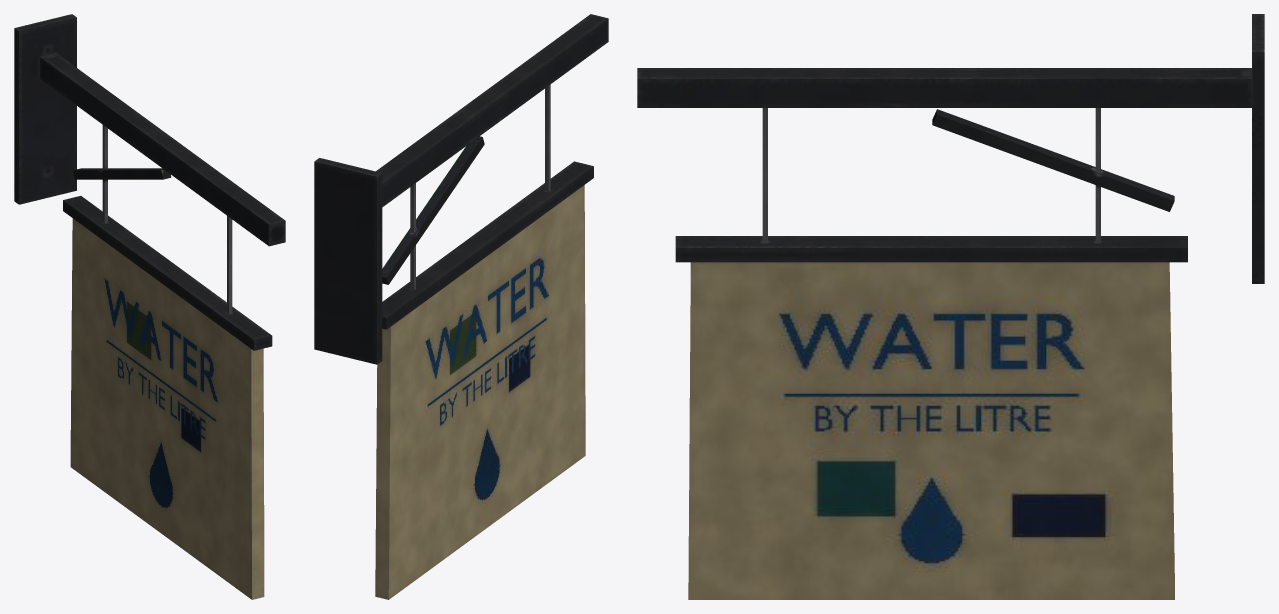
File: shop_sign_water.glb
3 views of the same model, side by side, from view 1: azimuth 30°, elevation 25°; view 2: azimuth 150°, elevation 25°; view 3: azimuth 270°, elevation 25° (orthographic). The views are drawn at different scales.
Visible parts, largest first — view 1: shop_sign_water; view 2: shop_sign_water; view 3: shop_sign_water.
Part boxes in pixels (left/top/right/bottom): shop_sign_water: left=14, top=14, right=285, bottom=599; shop_sign_water: left=314, top=14, right=608, bottom=599; shop_sign_water: left=637, top=14, right=1264, bottom=599.
Size of the model in its own units: 0.14 by 0.97 by 0.98.
Materials: 1 (1 with a texture image).
